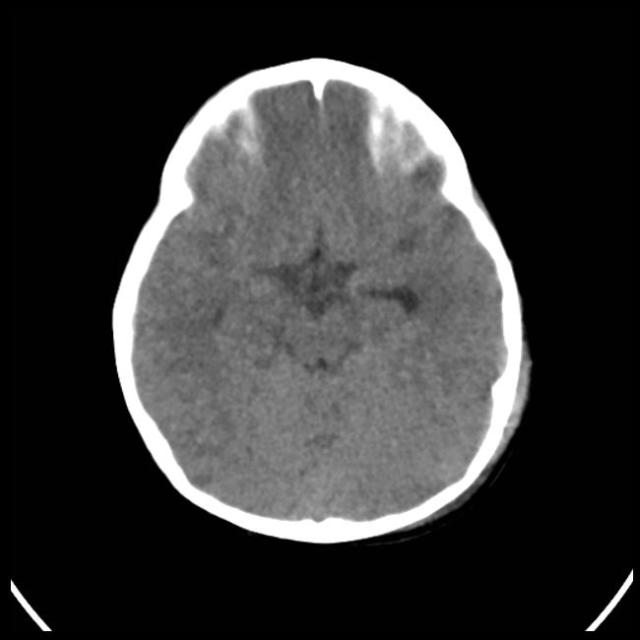lesion: (110, 57, 533, 543)
